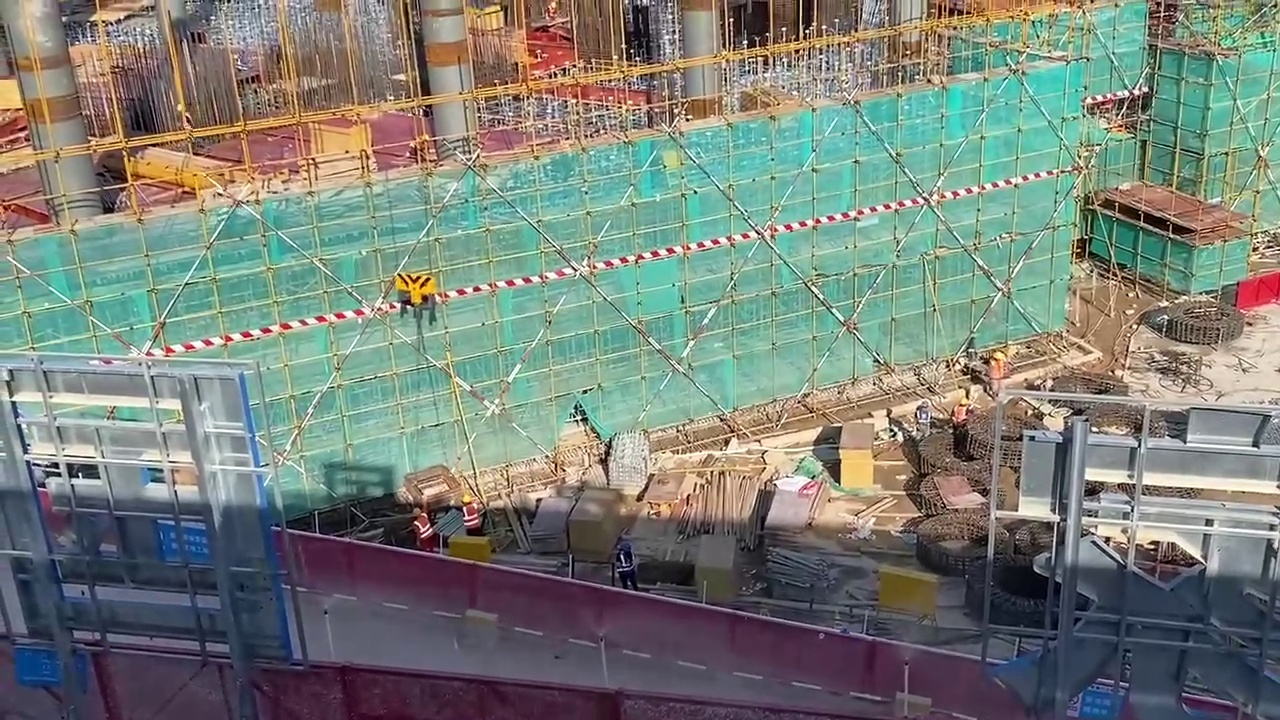board: (567, 486, 617, 561)
fence: (21, 645, 919, 720)
hook: (394, 269, 438, 311)
person: (411, 507, 437, 548), (616, 545, 638, 591), (456, 496, 481, 536), (985, 349, 1005, 396), (913, 399, 934, 435), (953, 396, 972, 425)
vest: (412, 515, 433, 539), (462, 506, 479, 528)
wood: (689, 469, 762, 538)
